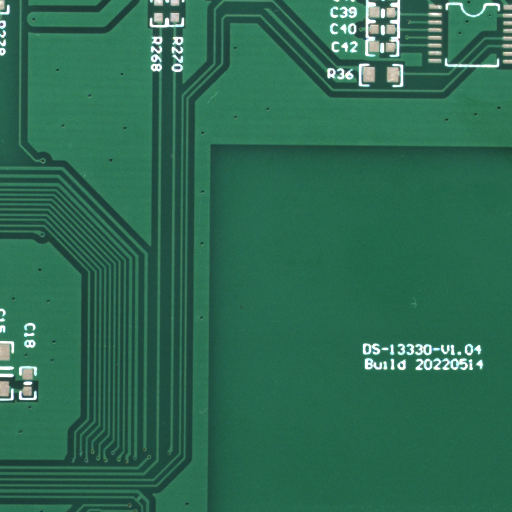Short: (139, 498, 147, 507)
